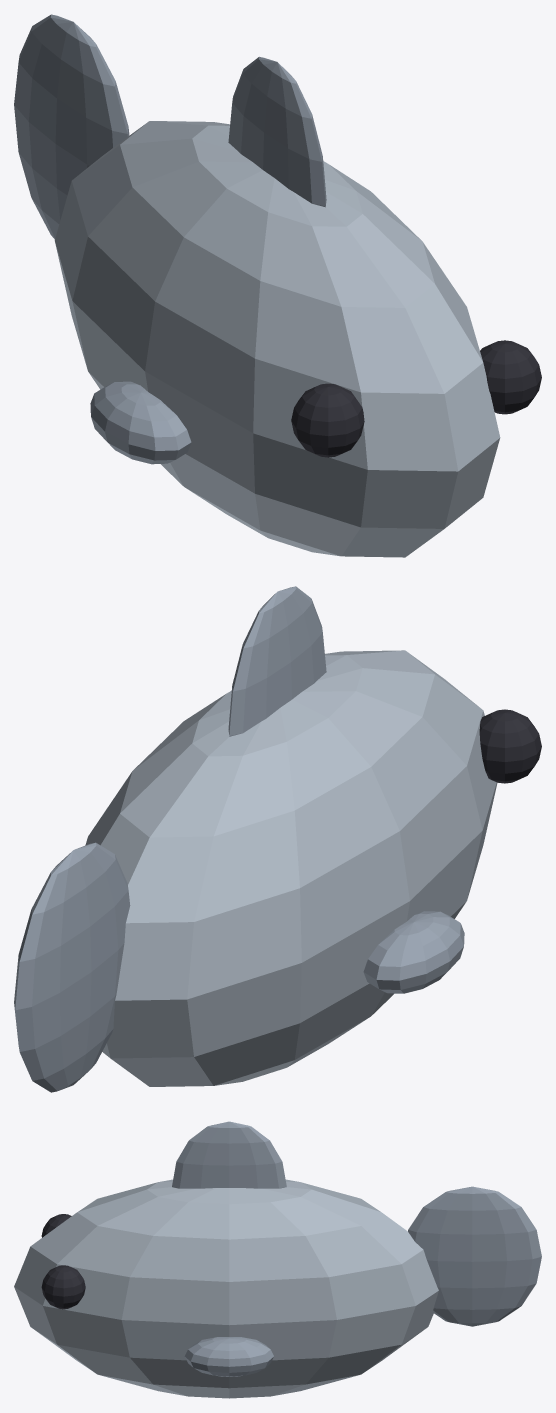
The model's file is creature_fish_shark.glb.
3 renders of one model, top to bottom at view 1: azimuth 30°, elevation 25°; view 2: azimuth 150°, elevation 25°; view 3: azimuth 270°, elevation 25°, orthographic. The views are drawn at different scales.
Parts seen in each view (by area): view 1: creature_fish_shark; view 2: creature_fish_shark; view 3: creature_fish_shark.
Boxes of the visible parts, x1,y1,x2,y2 form: creature_fish_shark: (14, 14, 541, 557); creature_fish_shark: (14, 586, 541, 1092); creature_fish_shark: (14, 1121, 541, 1398).
Bounding box in the file's own units: 0.7963 × 1 × 1.77.
